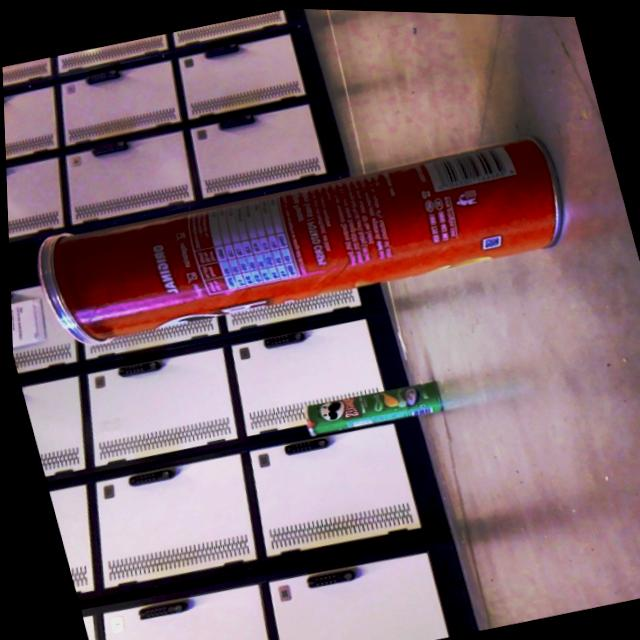greenpringles: (276, 354, 460, 454)
redpringles: (10, 110, 589, 382)
